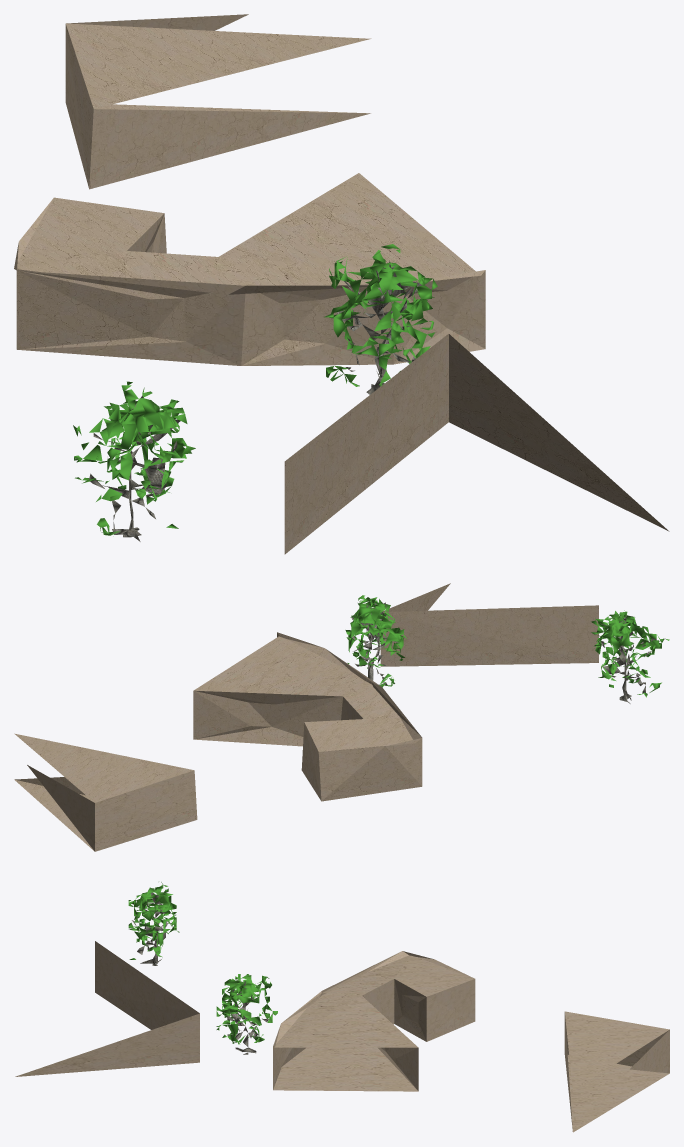
The model's file is tile_-3_0.gltf.
3 renders of one model, top to bottom at view 1: azimuth 30°, elevation 25°; view 2: azimuth 150°, elevation 25°; view 3: azimuth 270°, elevation 25°, orthographic. The views are drawn at different scales.
Visible parts, largest first — view 1: Plane.011@tile_-3_0, Bodhi Tree_Bodhi_front_2_Mat_0.044@tile_-3_0; view 2: Plane.011@tile_-3_0, Bodhi Tree_Bodhi_front_2_Mat_0.044@tile_-3_0; view 3: Plane.011@tile_-3_0, Bodhi Tree_Bodhi_front_2_Mat_0.044@tile_-3_0.
Part boxes in pixels (x1,y1,x2,y2): Plane.011@tile_-3_0: (14,14,669,554); Bodhi Tree_Bodhi_front_2_Mat_0.044@tile_-3_0: (73,244,437,541); Plane.011@tile_-3_0: (14,583,598,851); Bodhi Tree_Bodhi_front_2_Mat_0.044@tile_-3_0: (345,595,669,703); Plane.011@tile_-3_0: (15,941,669,1132); Bodhi Tree_Bodhi_front_2_Mat_0.044@tile_-3_0: (128,882,277,1054).
Size of the model in its own units: 47.29 by 10.32 by 72.98.
Materials: 3 (2 with a texture image).
